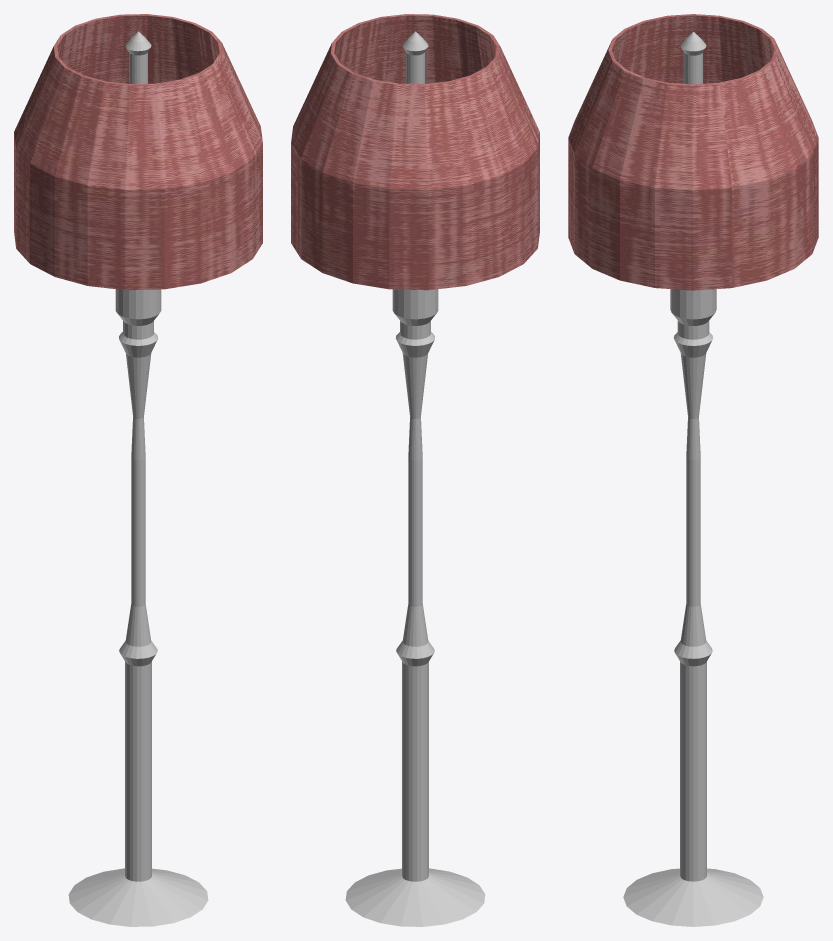
Rendered from Floor_Lamp.fbx.
3 renders of one model, left to right at view 1: azimuth 30°, elevation 25°; view 2: azimuth 150°, elevation 25°; view 3: azimuth 270°, elevation 25°, orthographic.
Visible parts, largest first — view 1: polySurface19; view 2: polySurface19; view 3: polySurface19.
Boxes of the visible parts, x1,y1,x2,y2 form: polySurface19: [14, 14, 262, 926]; polySurface19: [291, 14, 539, 926]; polySurface19: [568, 14, 818, 926].
Bounding box in the file's own units: 0.3726 × 1.42 × 0.3726.
